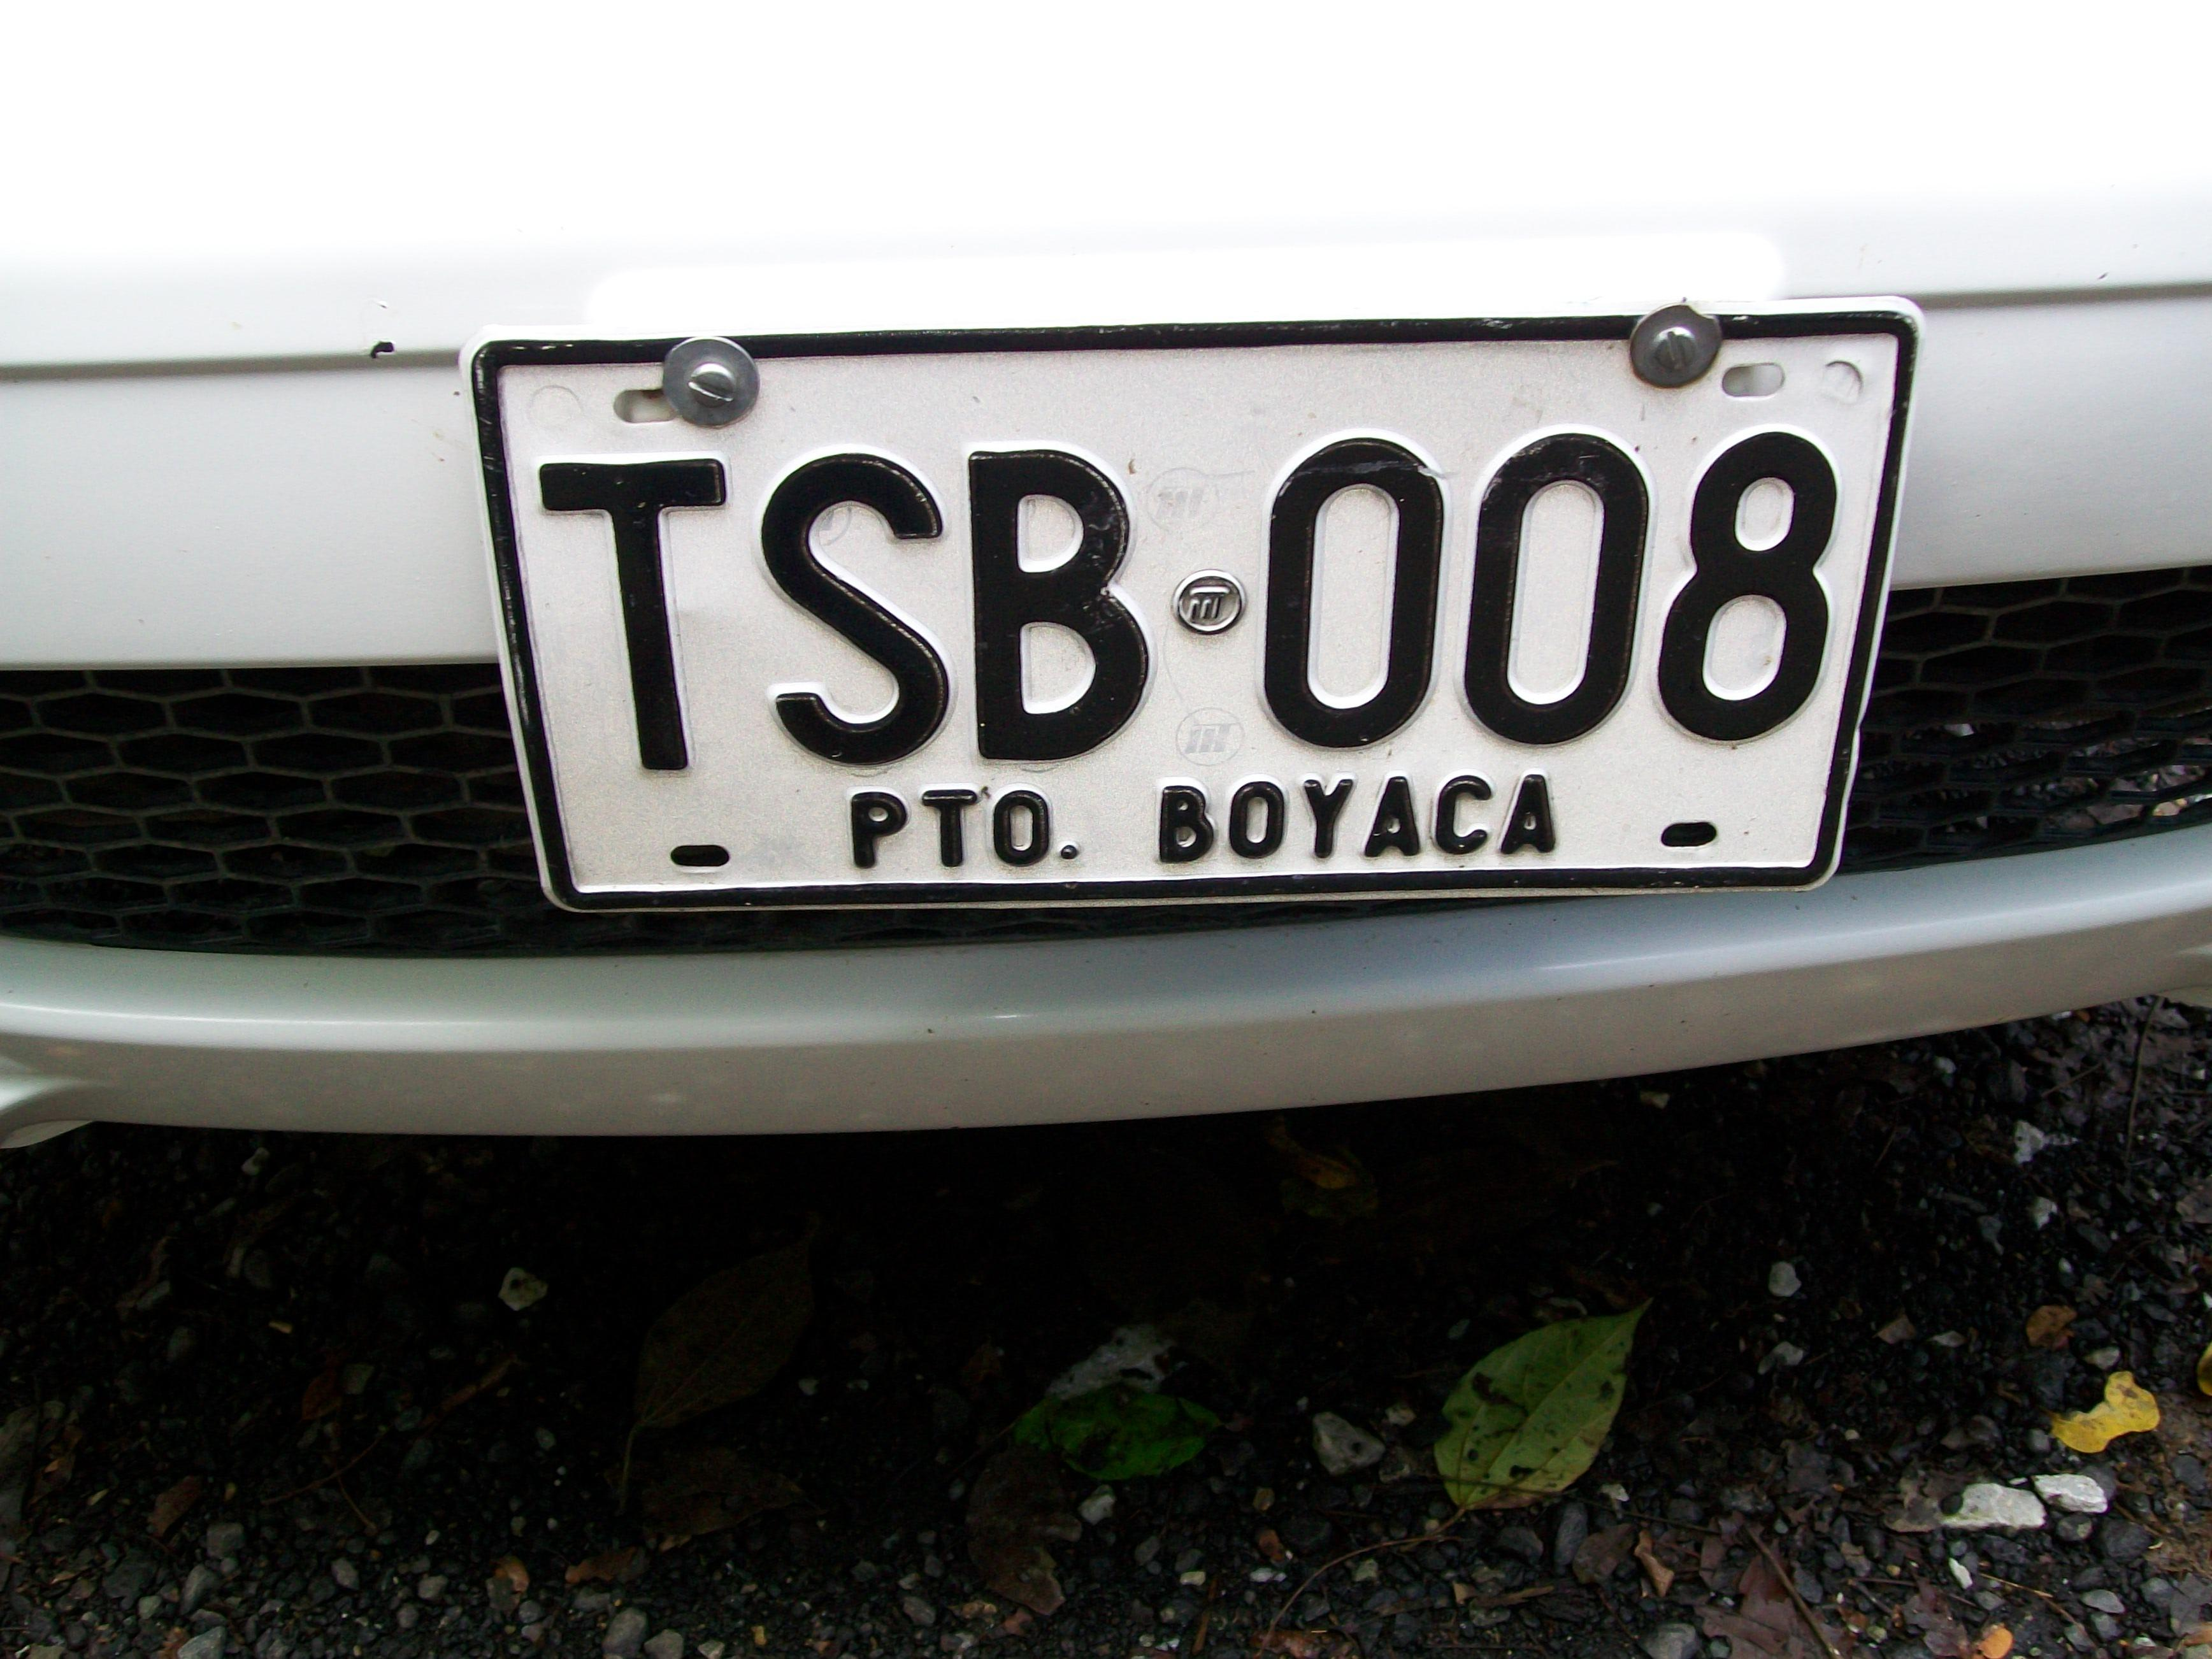placas: (452, 261, 1929, 926)
